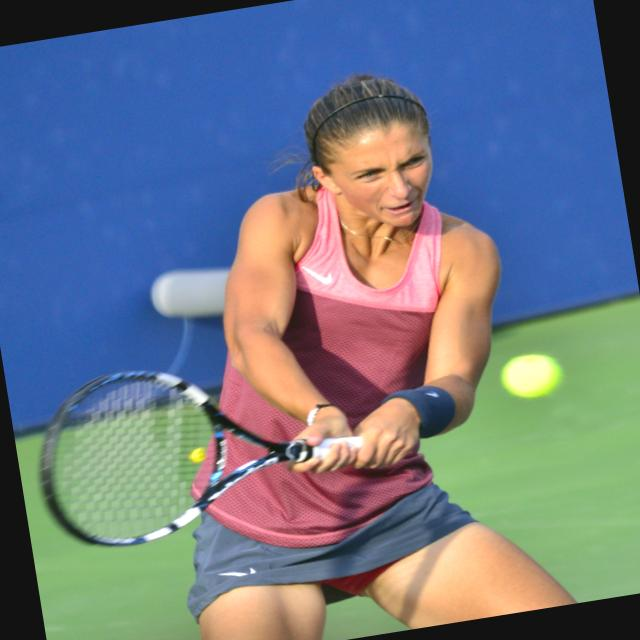Tennis Ball: (501, 351, 566, 404)
